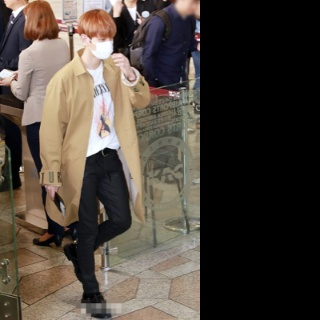with_mask: (91, 37, 114, 60)
